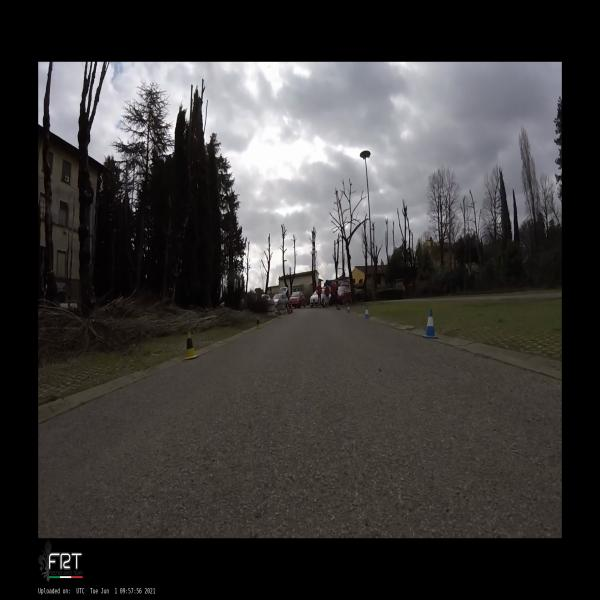blue_cone: (422, 309, 438, 339), (363, 306, 370, 318), (347, 306, 350, 312)
large_orange_cone: (338, 304, 340, 310)
yellow_cone: (182, 331, 199, 360), (255, 316, 262, 329)
